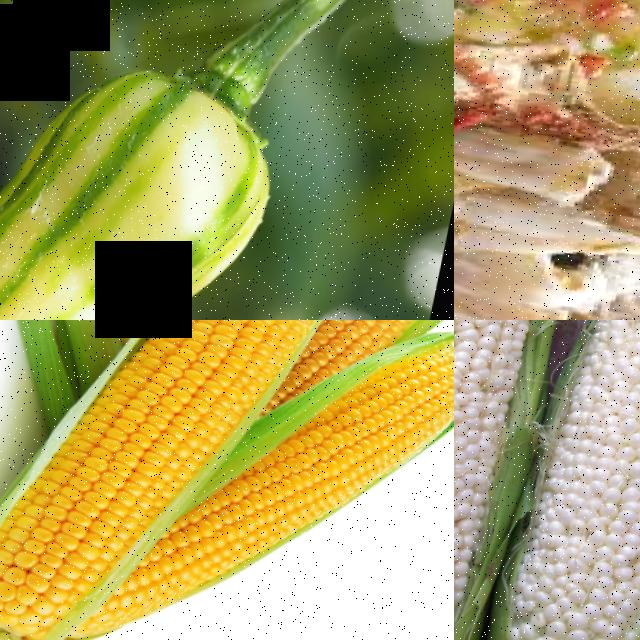corn: (115, 435, 350, 640), (0, 367, 162, 640), (511, 320, 640, 640), (454, 320, 555, 640), (299, 326, 454, 517), (150, 320, 384, 408), (326, 320, 454, 371)
